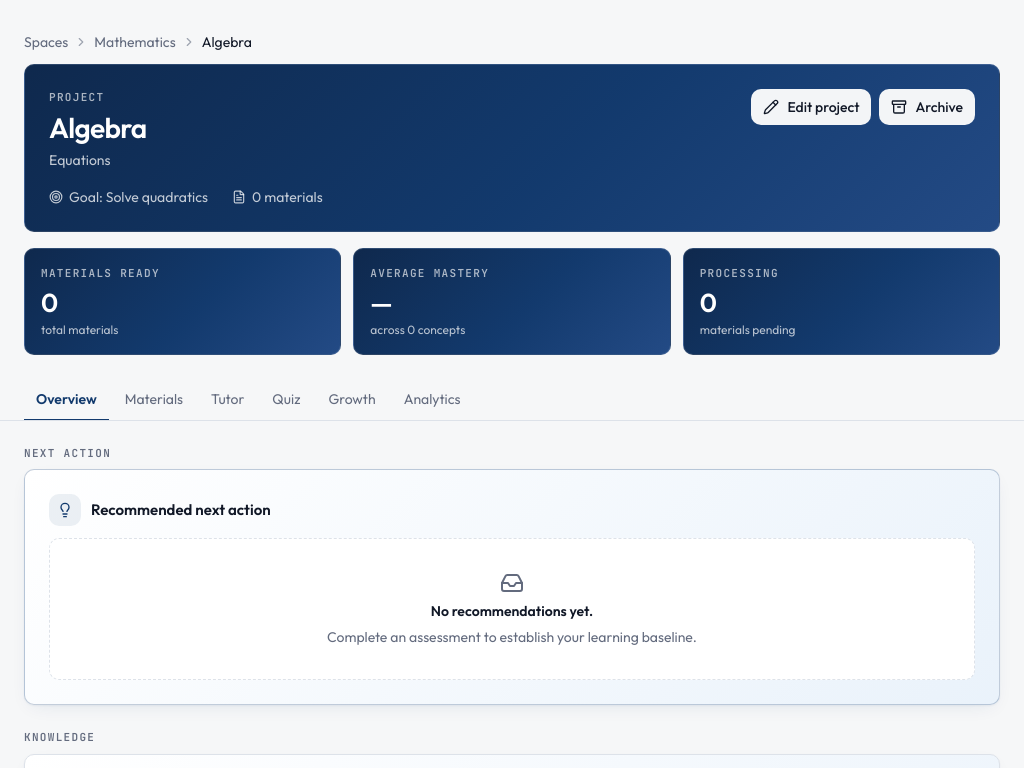
project tab history › updates the URL on tab click and preserves tabs on refresh
Expected: the text "No recommendations yet." is shown, [431,601,593,621]
What coordinates should you click on to do the following:
click the link "Materials"
I would click on:
 (154, 399)
Its box is [125,390,183,408].
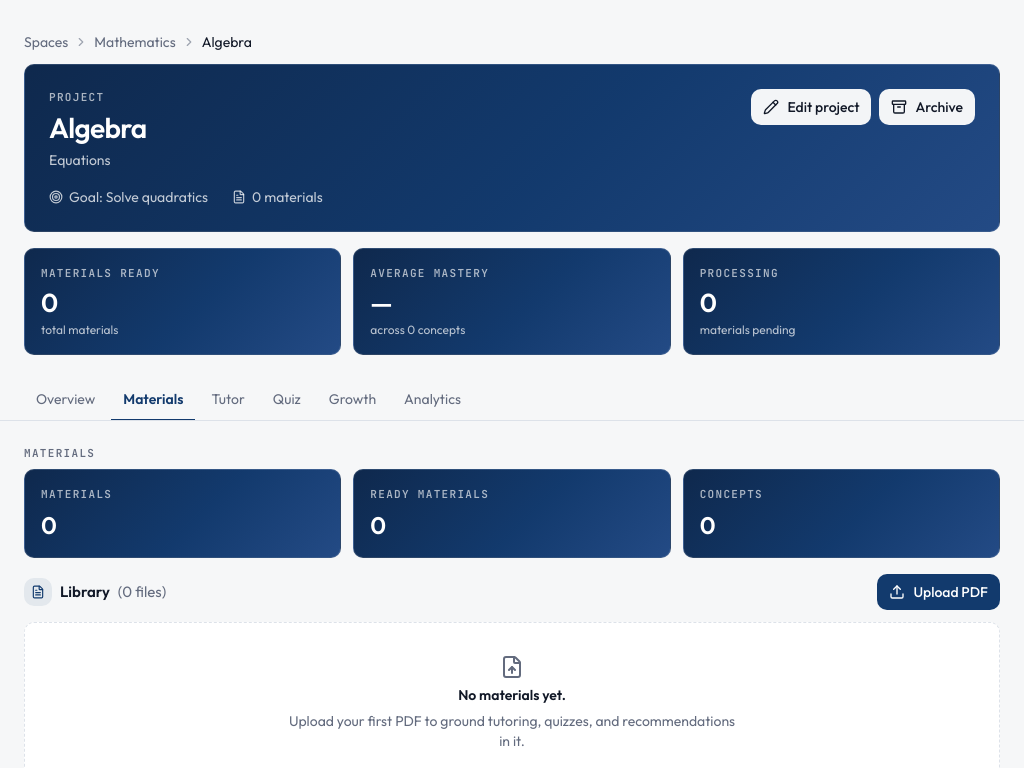
Now the text "No materials yet." is shown, box [458,685,566,705]
Now the text "No recommendations yet." is gone
